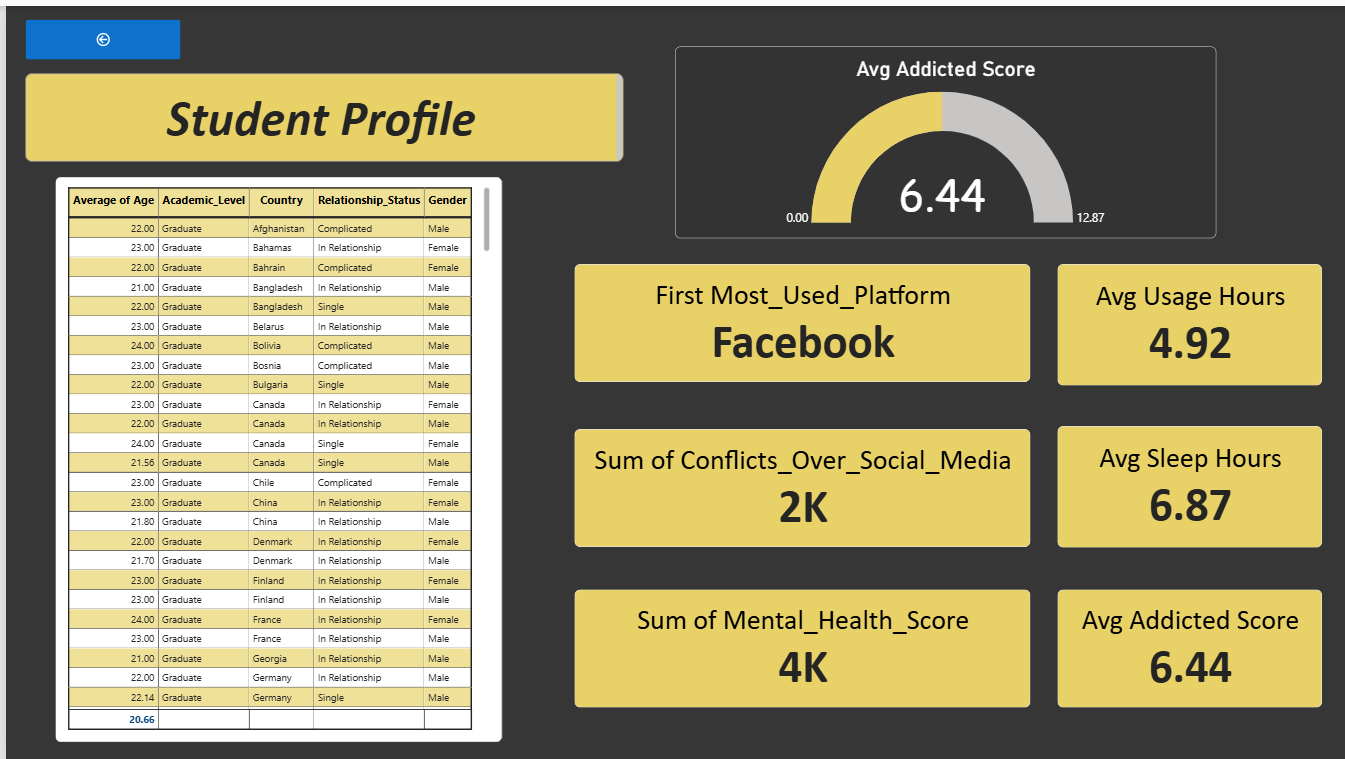

This screenshot's page, from the dashboard's own definition file:
{"tool":"powerbi","page":{"name":"Student Profile","canvas":[1920,1080],"ordinal":5},"visuals":[{"type":"tableEx","fields":{"Values":["Avg(Student_Details.Age)","Student_Details.Academic_Level","Student_Details.Country","Student_Details.Relationship_Status","Student_Details.Gender"]},"box":[71.3,244.2,639.4,809.5],"z":0},{"type":"cardVisual","fields":{"Data":["_Measures.Avg Sleep Hours"]},"box":[1505.5,601.3,379.4,174.2],"z":1000},{"type":"cardVisual","fields":{"Data":["_Measures.Avg Usage Hours"]},"box":[1505.5,369.8,379.4,174.2],"z":2000},{"type":"cardVisual","fields":{"Data":["_Measures.Avg Addicted Score"]},"box":[1505.5,835.1,379.4,169.4],"z":3000},{"type":"cardVisual","fields":{"Data":["Min(Platform_Details.Most_Used_Platform)"]},"box":[813.6,369.8,653.7,169.4],"z":4000},{"type":"cardVisual","fields":{"Data":["Sum(Student_Details.Conflicts_Over_Social_Media)"]},"box":[813.6,606,653.7,169.4],"z":5000},{"type":"cardVisual","fields":{"Data":["Sum(Student_Details.Mental_Health_Score)"]},"box":[813.6,835.1,653.7,169.4],"z":6000},{"type":"actionButton","box":[27.4,19.2,222.3,57.6],"z":7000},{"type":"gauge","fields":{"Y":["_Measures.Avg Addicted Score"]},"box":[959.1,57.3,775.4,274.4],"z":8000},{"type":"textbox","box":[27.4,96,856.2,126.2],"z":8001}]}

Visuals, with their boxes in screenshot pixels (x1, y1, x2, y2), scaled from the page's 1920x1080 canvas onto the 1345x759 screenshot:
tableEx - Avg(Student_Details.Age) x Student_Details.Academic_Level: (left=50, top=172, right=498, bottom=741)
cardVisual - _Measures.Avg Sleep Hours: (left=1055, top=423, right=1320, bottom=545)
cardVisual - _Measures.Avg Usage Hours: (left=1055, top=260, right=1320, bottom=382)
cardVisual - _Measures.Avg Addicted Score: (left=1055, top=587, right=1320, bottom=706)
cardVisual - Min(Platform_Details.Most_Used_Platform): (left=570, top=260, right=1028, bottom=379)
cardVisual - Sum(Student_Details.Conflicts_Over_Social_Media): (left=570, top=426, right=1028, bottom=545)
cardVisual - Sum(Student_Details.Mental_Health_Score): (left=570, top=587, right=1028, bottom=706)
actionButton: (left=19, top=13, right=175, bottom=54)
gauge - _Measures.Avg Addicted Score: (left=672, top=40, right=1215, bottom=233)
textbox: (left=19, top=67, right=619, bottom=156)
